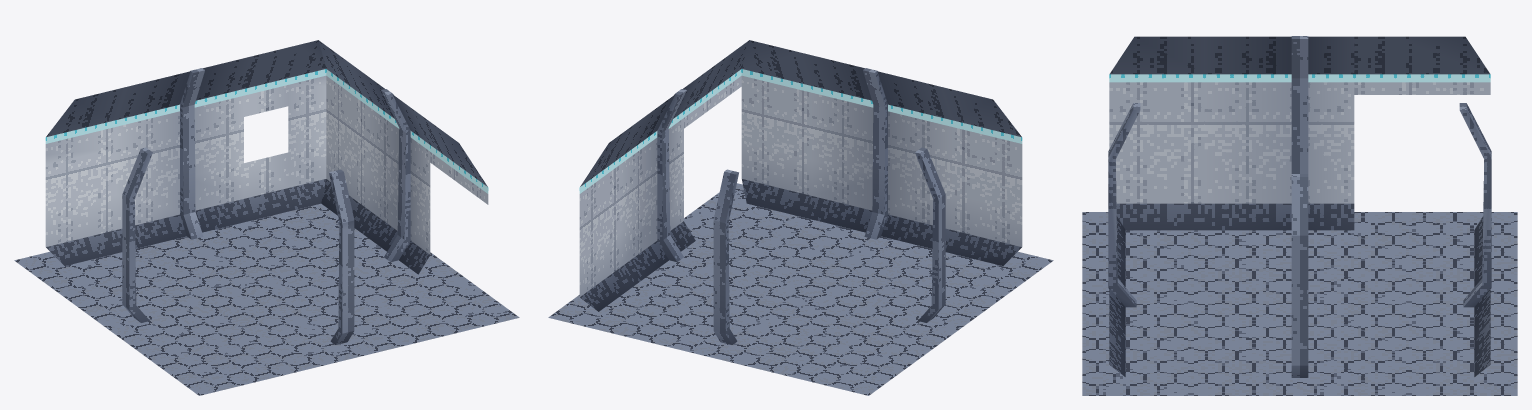
The model's file is stn.room__airlock_2x2.glb.
3 views of the same model, side by side, from view 1: azimuth 30°, elevation 25°; view 2: azimuth 150°, elevation 25°; view 3: azimuth 270°, elevation 25° (orthographic). The views are drawn at different scales.
Parts seen in each view (by area): view 1: kit_shell_walls, kit_shell_floor, kit_ribs; view 2: kit_shell_walls, kit_shell_floor, kit_ribs; view 3: kit_shell_floor, kit_shell_walls, kit_ribs.
Boxes of the visible parts, x1,y1,x2,y2 form: kit_shell_walls: [45, 40, 488, 274]; kit_shell_floor: [14, 203, 519, 395]; kit_ribs: [122, 68, 410, 344]; kit_shell_walls: [579, 40, 1022, 311]; kit_shell_floor: [548, 183, 1053, 395]; kit_ribs: [657, 68, 945, 344]; kit_shell_floor: [1082, 212, 1517, 395]; kit_shell_walls: [1109, 36, 1490, 376]; kit_ribs: [1108, 36, 1491, 377].
Bounding box in the file's own units: 8 × 4.01 × 8.
5 materials, 5 textured.
